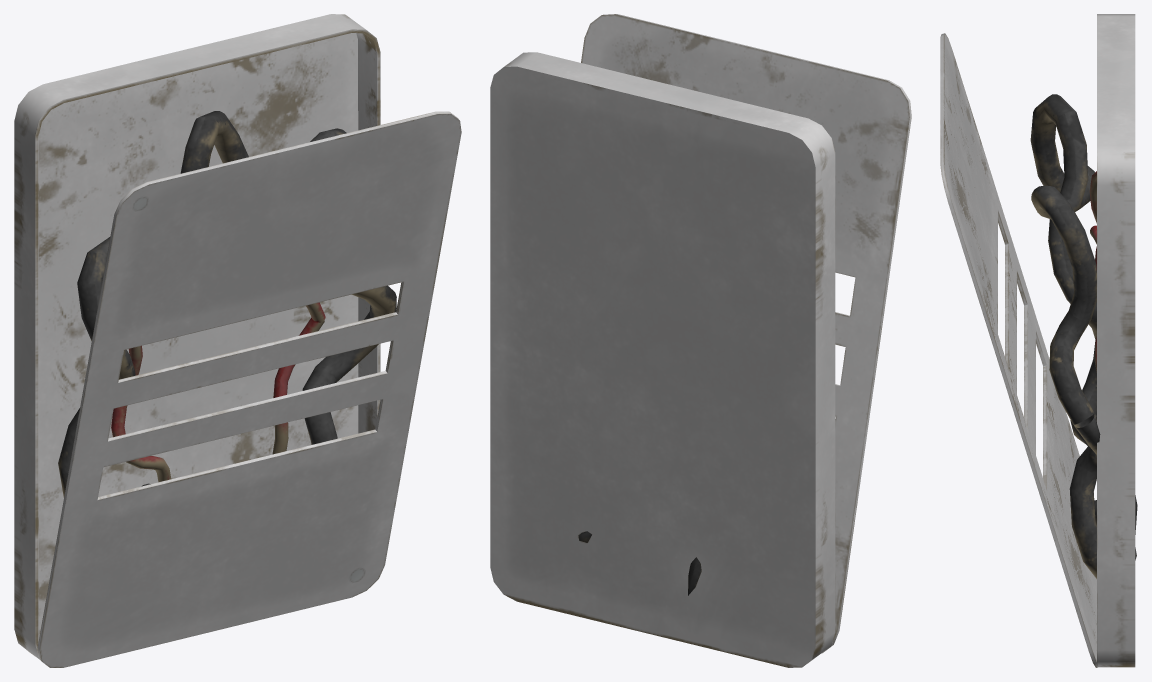
The model's file is BrokenSwitcher.fbx.
3 views of the same model, side by side, from view 1: azimuth 30°, elevation 25°; view 2: azimuth 150°, elevation 25°; view 3: azimuth 270°, elevation 25° (orthographic). The views are drawn at different scales.
Parts seen in each view (by area): view 1: Switch Damaged.001, Switch Damaged, Spiral.001, Spiral; view 2: Switch Damaged, Switch Damaged.001; view 3: Switch Damaged, Switch Damaged.001, Spiral.001, Spiral.
Part boxes in pixels (box(x1,y1,x2,y2)): Switch Damaged.001: box(37, 111, 461, 667); Switch Damaged: box(14, 14, 380, 659); Spiral.001: box(58, 111, 396, 497); Spiral: box(111, 302, 325, 482); Switch Damaged: box(490, 52, 835, 667); Switch Damaged.001: box(581, 14, 911, 653); Switch Damaged: box(1097, 14, 1135, 667); Switch Damaged.001: box(940, 33, 1097, 667); Spiral.001: box(1030, 94, 1137, 578); Spiral: box(1089, 171, 1096, 372).
Bounding box in the file's own units: 6.04 × 9.32 × 3.2.
